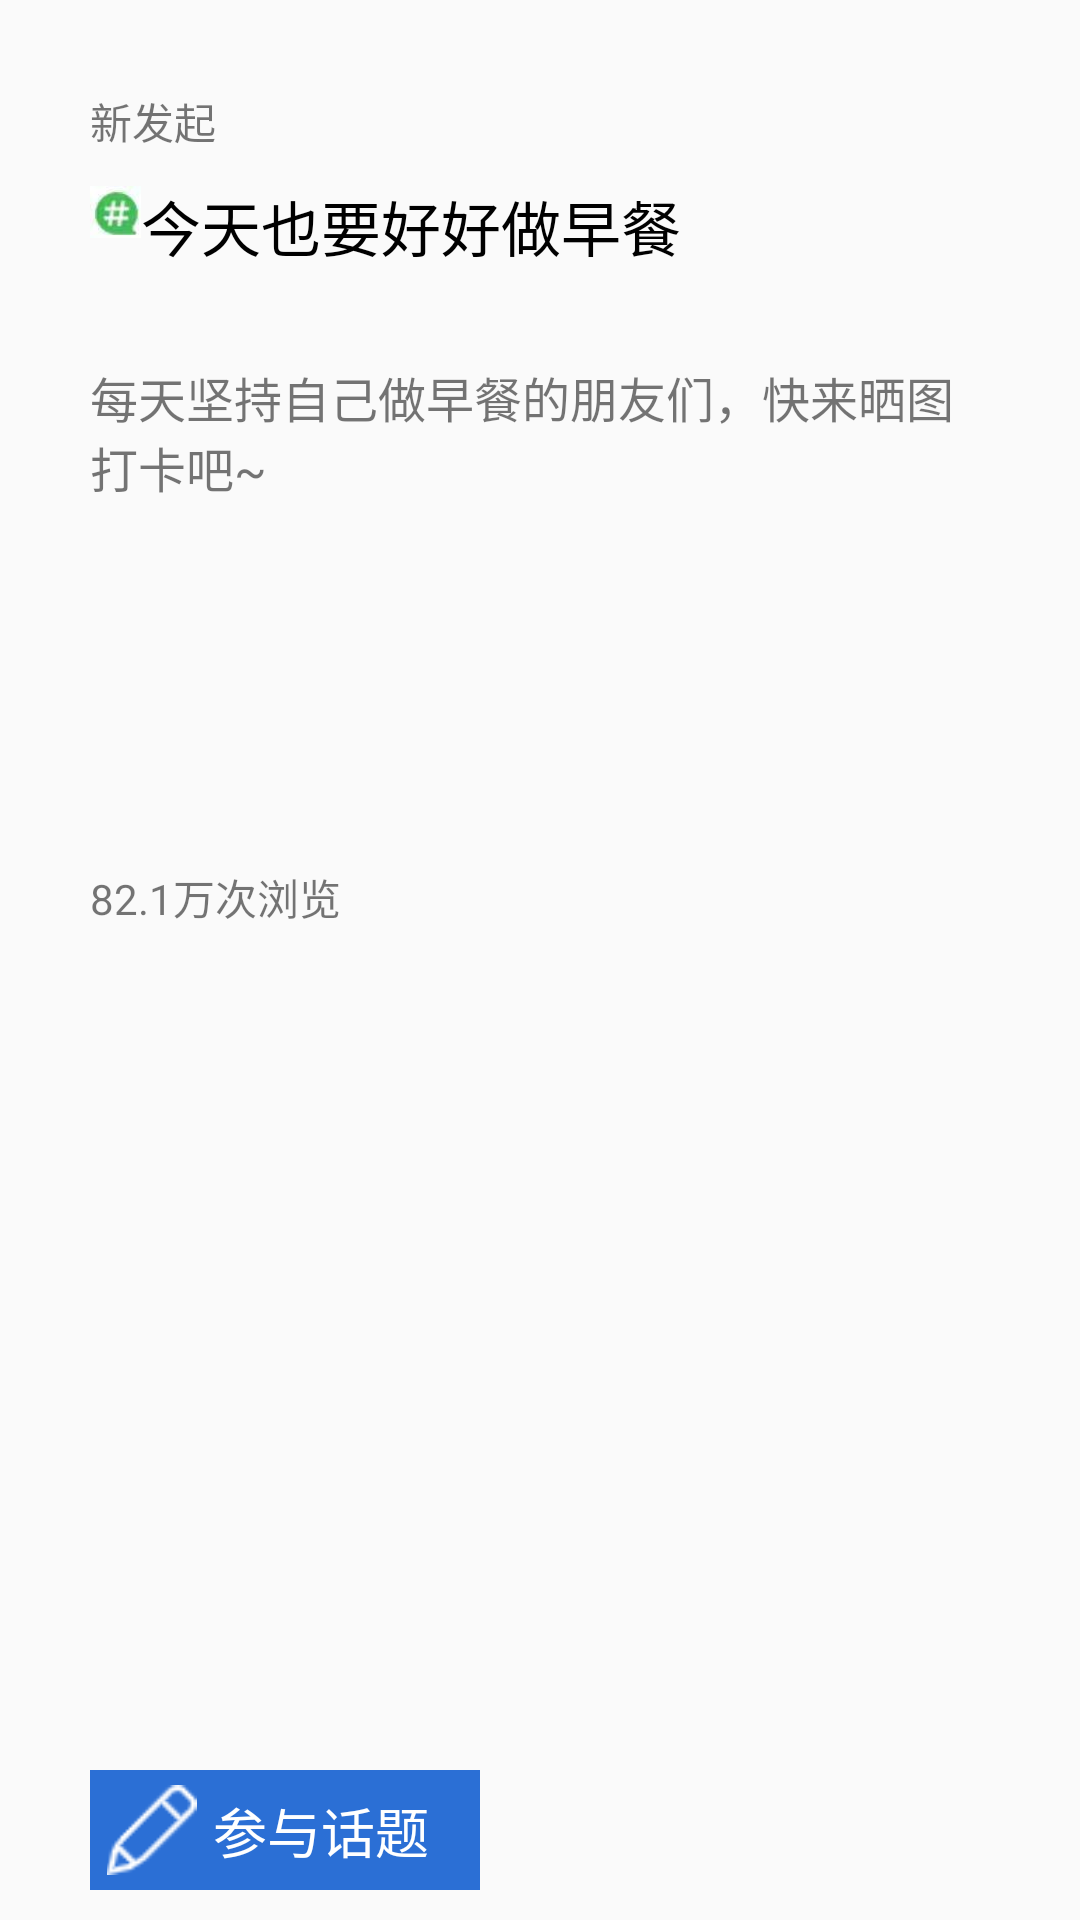

Icon click points for this 1080 × 1920 phone screenshot, format [x,y]:
pen: [152,1830]
